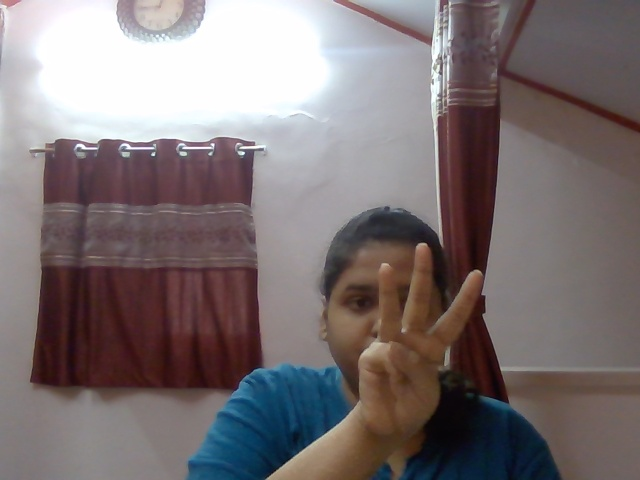w: (341, 229, 491, 447)
